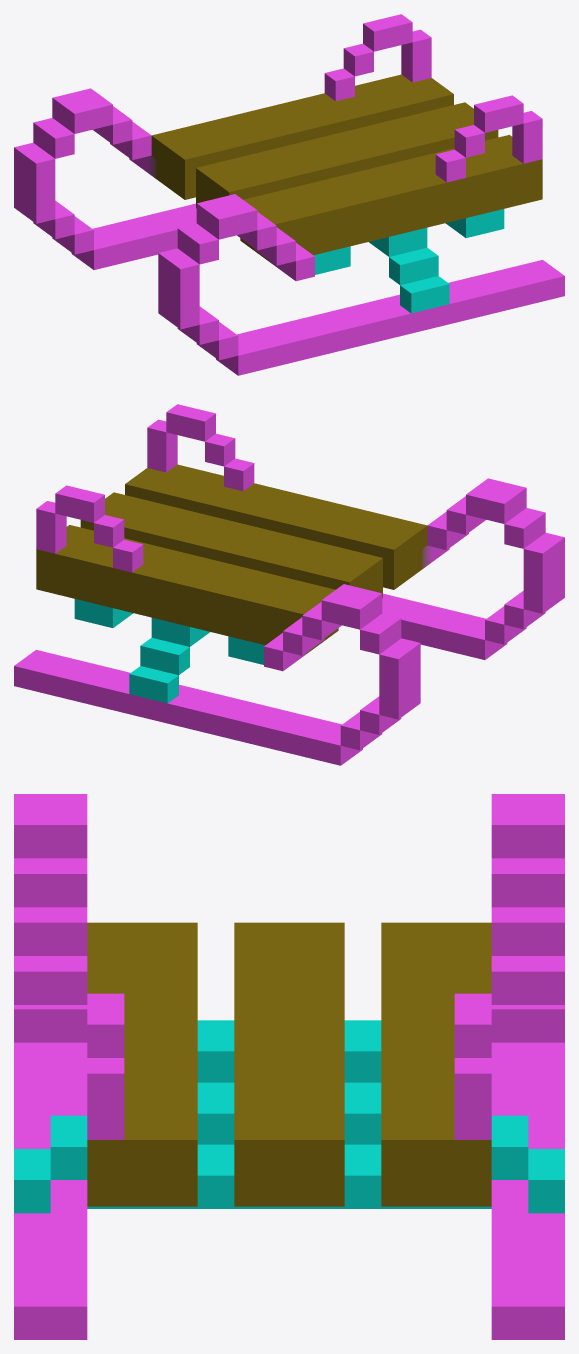
The model's file is Vehicle_11.fbx.
3 renders of one model, top to bottom at view 1: azimuth 30°, elevation 25°; view 2: azimuth 150°, elevation 25°; view 3: azimuth 270°, elevation 25°, orthographic. The views are drawn at different scales.
Visible parts, largest first — view 1: Vehicle_11; view 2: Vehicle_11; view 3: Vehicle_11.
Boxes of the visible parts, x1,y1,x2,y2 form: Vehicle_11: (14, 14, 564, 375); Vehicle_11: (14, 404, 564, 765); Vehicle_11: (14, 794, 564, 1339).
Size of the model in its own units: 20 by 9 by 15.
1 material, 1 textured.
